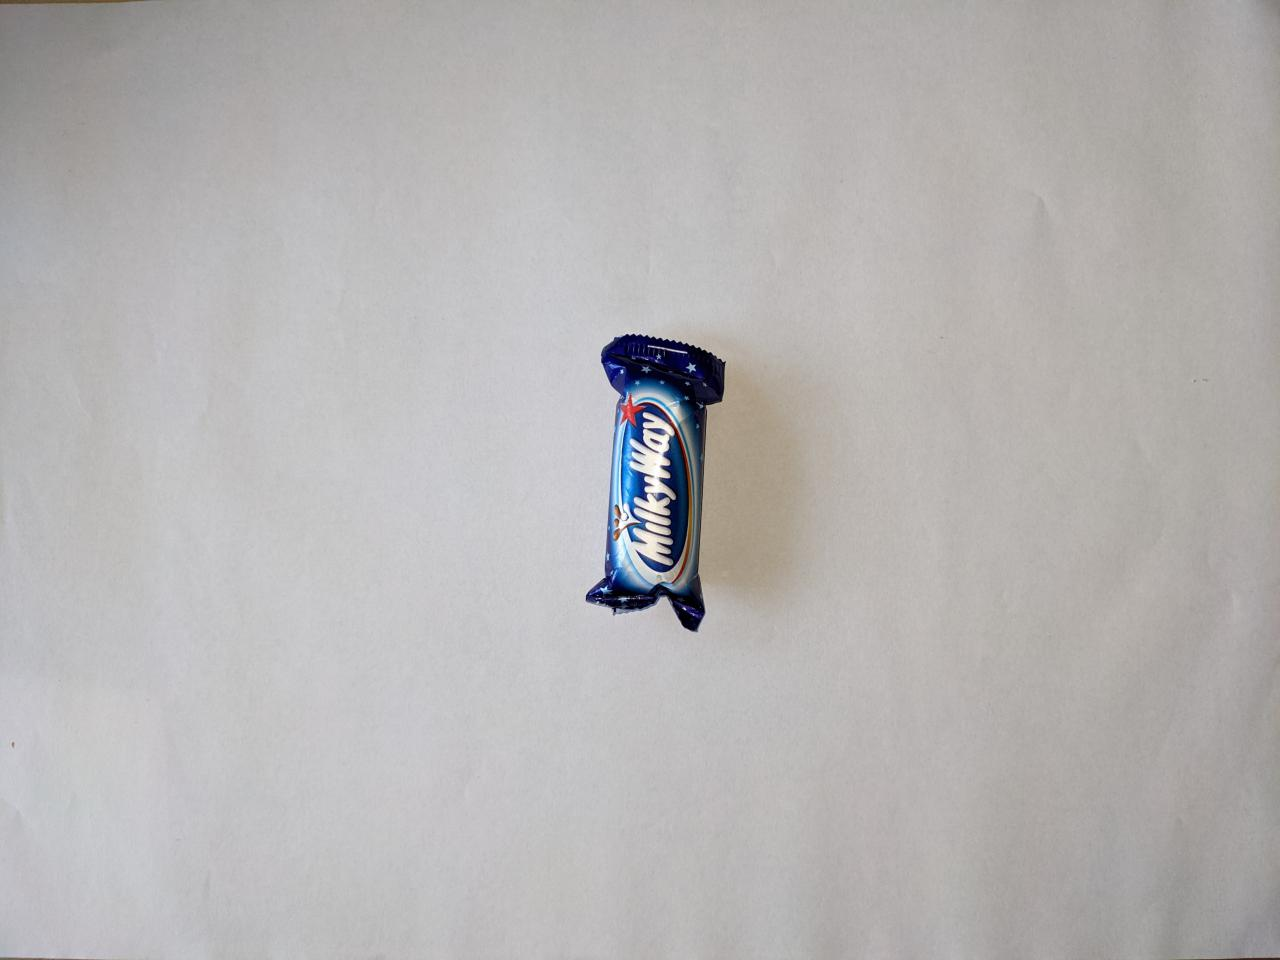MilkyWay: (577, 325, 736, 635)
